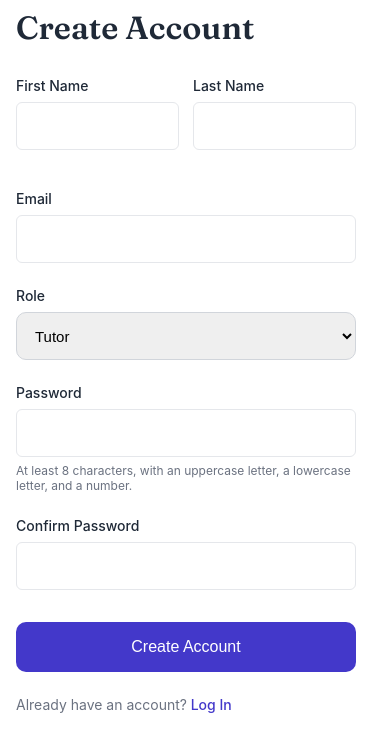
Test: FE-18 mismatched passwords are caught
Type "Ann" into the field below "First Name".
click(98, 126); type("Ann")  # box [16,102,179,150]
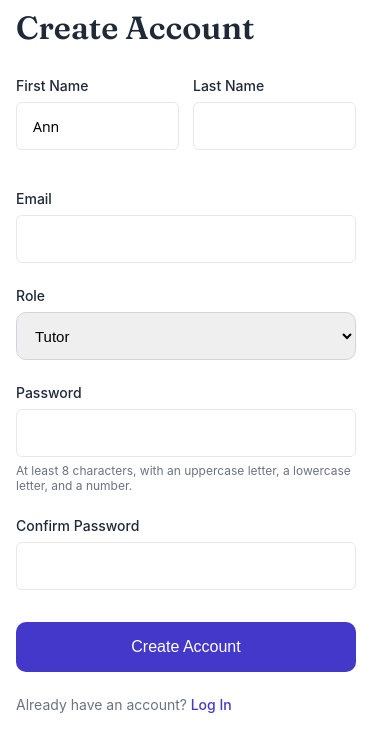
Type "Lee" into the field below "Last Name".
click(274, 126); type("Lee")  # box [193,102,356,150]
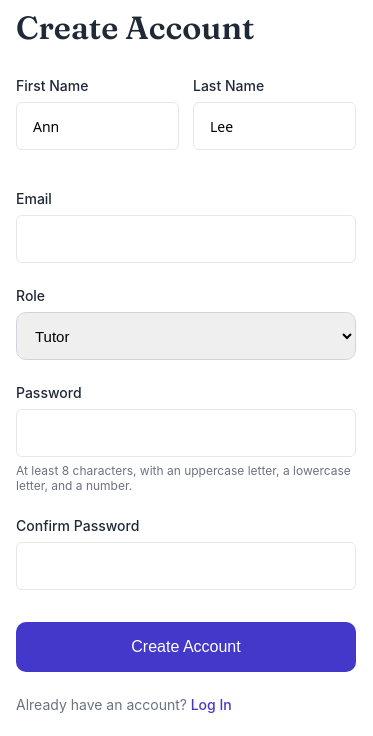
Type "ann@uni.test" into the field below "Email".
click(186, 239); type("ann@uni.test")  # box [16,215,356,263]
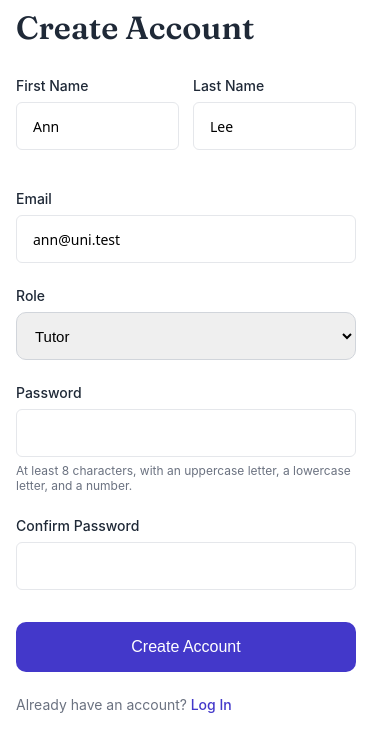
Type "Secret12" into the 1st password field.
click(186, 433); type("Secret12")  # box [16,409,356,457]
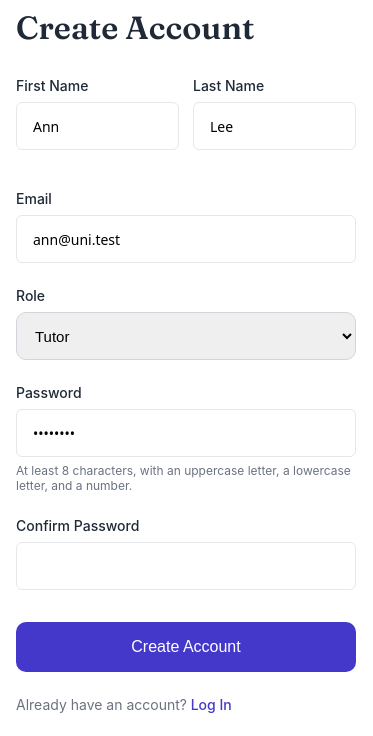
Type "other12" into the password field below "Confirm Password".
click(186, 566); type("other12")  # box [16,542,356,590]
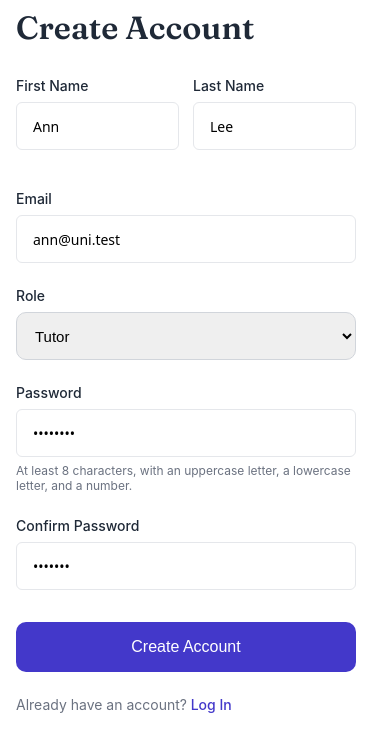
Click the button "Create Account".
click(186, 647)  # box [16,622,356,672]
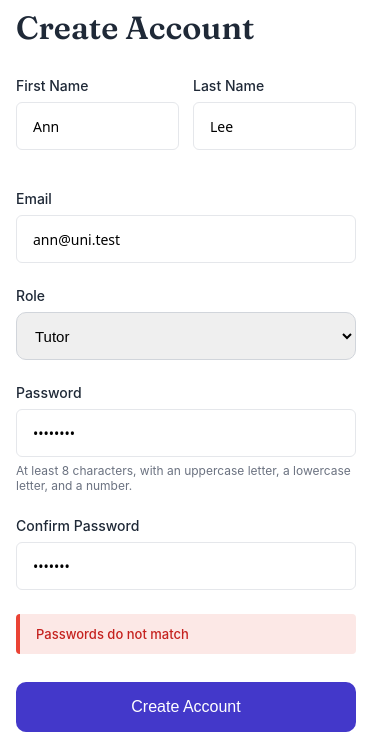
Expected: the text "Passwords do not match" is shown, [16,614,356,654]
